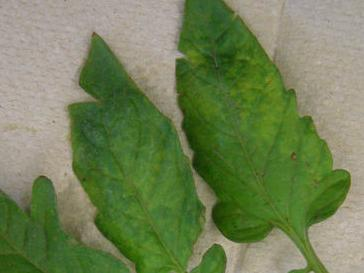Tomato leaf mosaic virus: (171, 0, 357, 254), (77, 31, 199, 273), (0, 129, 130, 273)
